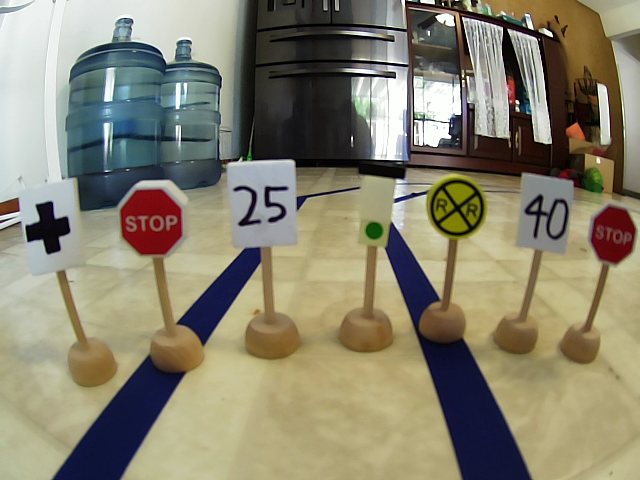25: (227, 156, 302, 248), (355, 162, 403, 249)
40: (516, 171, 573, 255)
plus: (19, 176, 85, 278)
rail: (427, 172, 489, 240)
stop: (115, 177, 196, 260), (589, 203, 640, 271)
